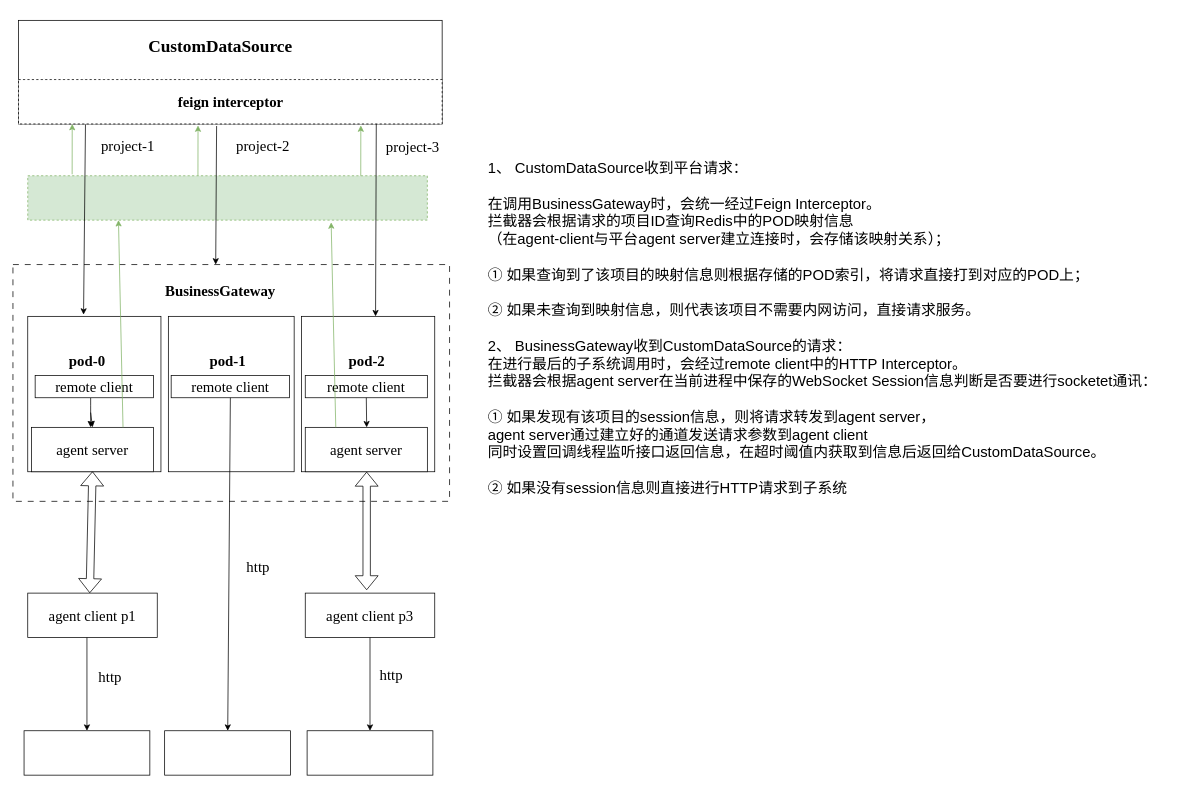
The diagram is 1188 pixels wide and 788 high, and some of its shapes have lost their labels. Each missing label, with the centre of its shape:
Redis: point (227, 197)
子系统-p1: point (86, 752)
子系统-p2: point (227, 752)
子系统-p3: point (369, 752)
